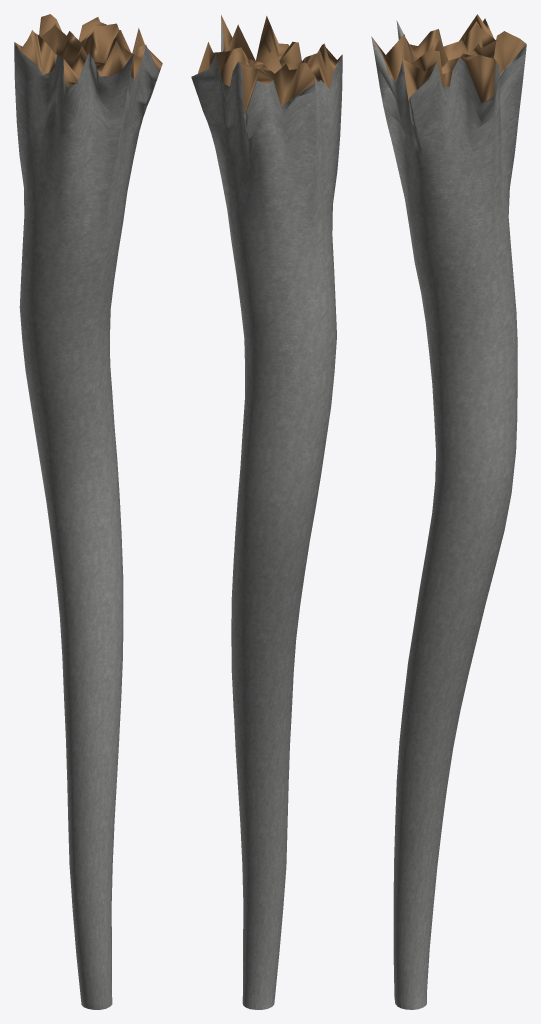
The model's file is tree-29-club.glb.
The picture shows the model from 3 angles, left to right: view 1: azimuth 30°, elevation 25°; view 2: azimuth 210°, elevation 25°; view 3: azimuth 270°, elevation 25°; orthographic projection.
Parts seen in each view (by area): view 1: AmericanBeech_Individual29_Club; view 2: AmericanBeech_Individual29_Club; view 3: AmericanBeech_Individual29_Club.
Boxes of the visible parts, x1,y1,x2,y2 form: AmericanBeech_Individual29_Club: (14, 14, 162, 1009); AmericanBeech_Individual29_Club: (191, 15, 342, 1009); AmericanBeech_Individual29_Club: (371, 14, 526, 1009).
Size of the model in its own units: 0.4798 by 3.94 by 0.5678.
Materials: 2 (1 with a texture image).
